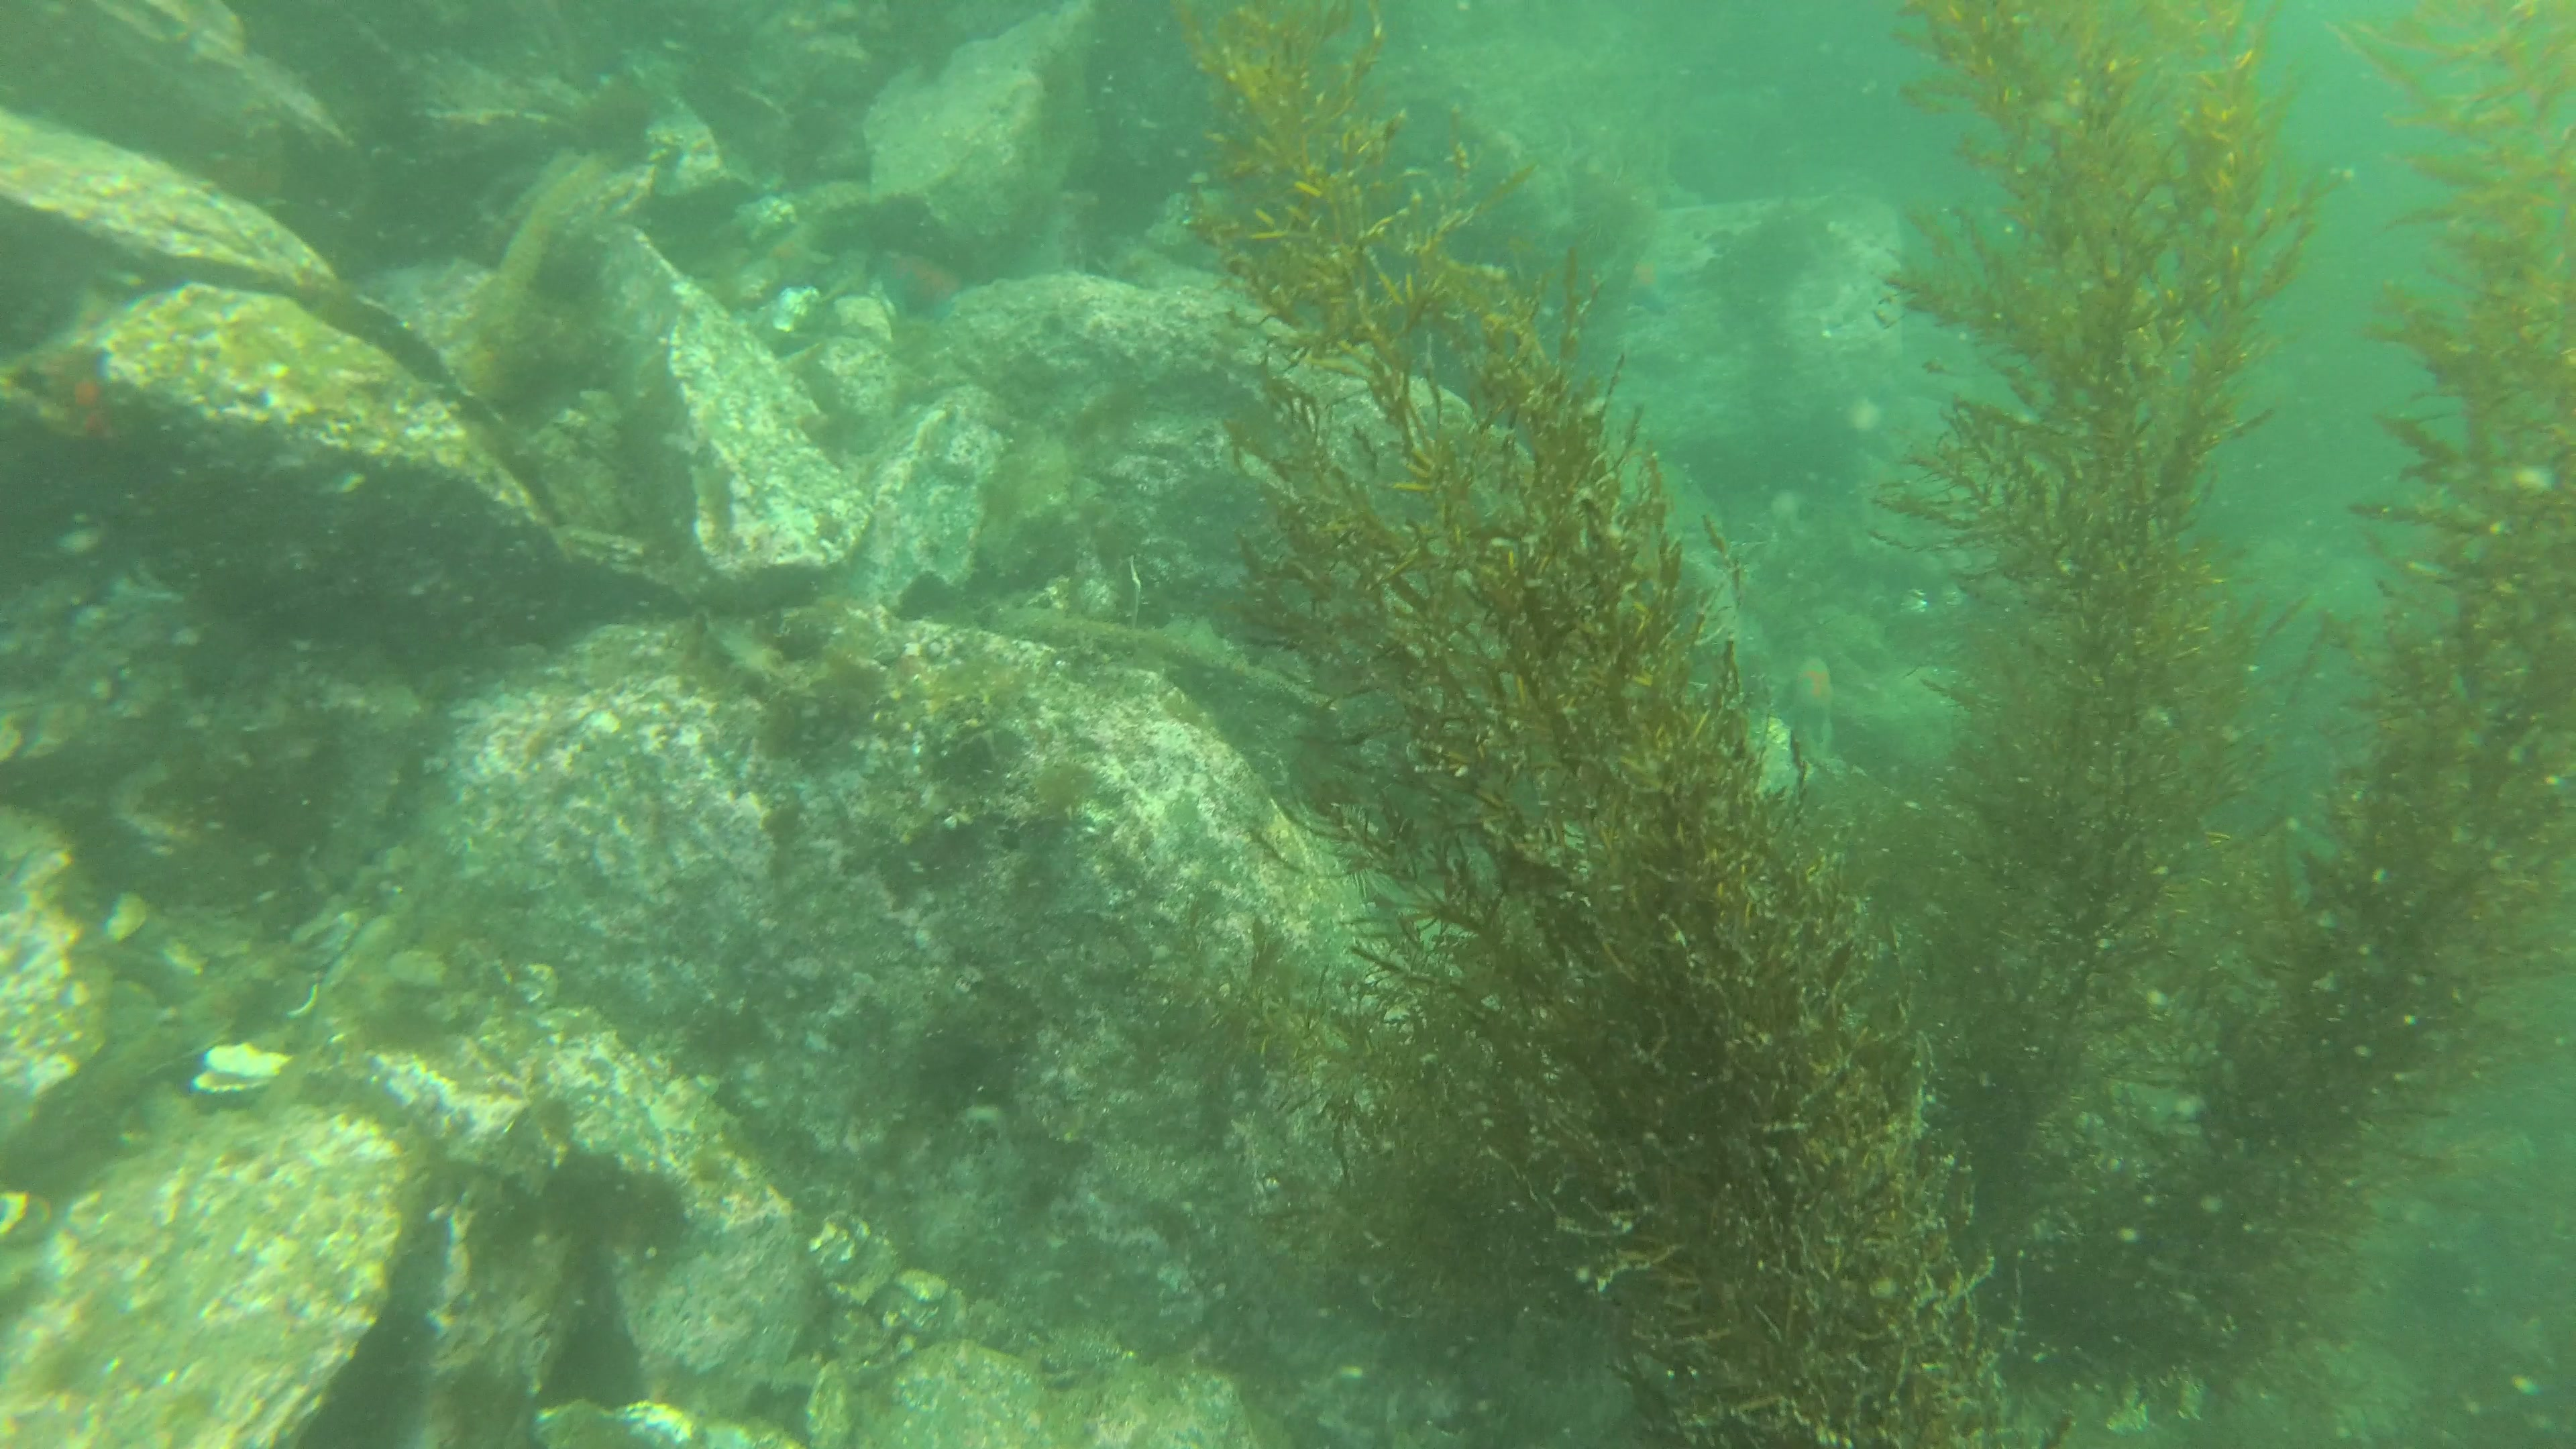scallop: (189, 1033, 295, 1104)
starfish: (1780, 646, 1851, 763)
